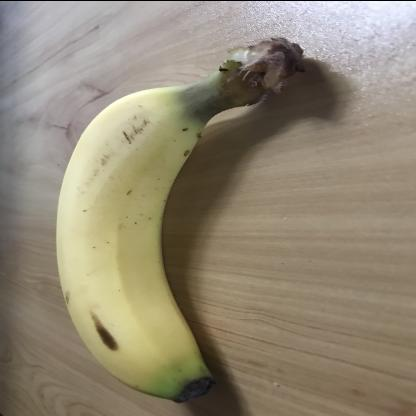banana: (52, 35, 308, 402)
